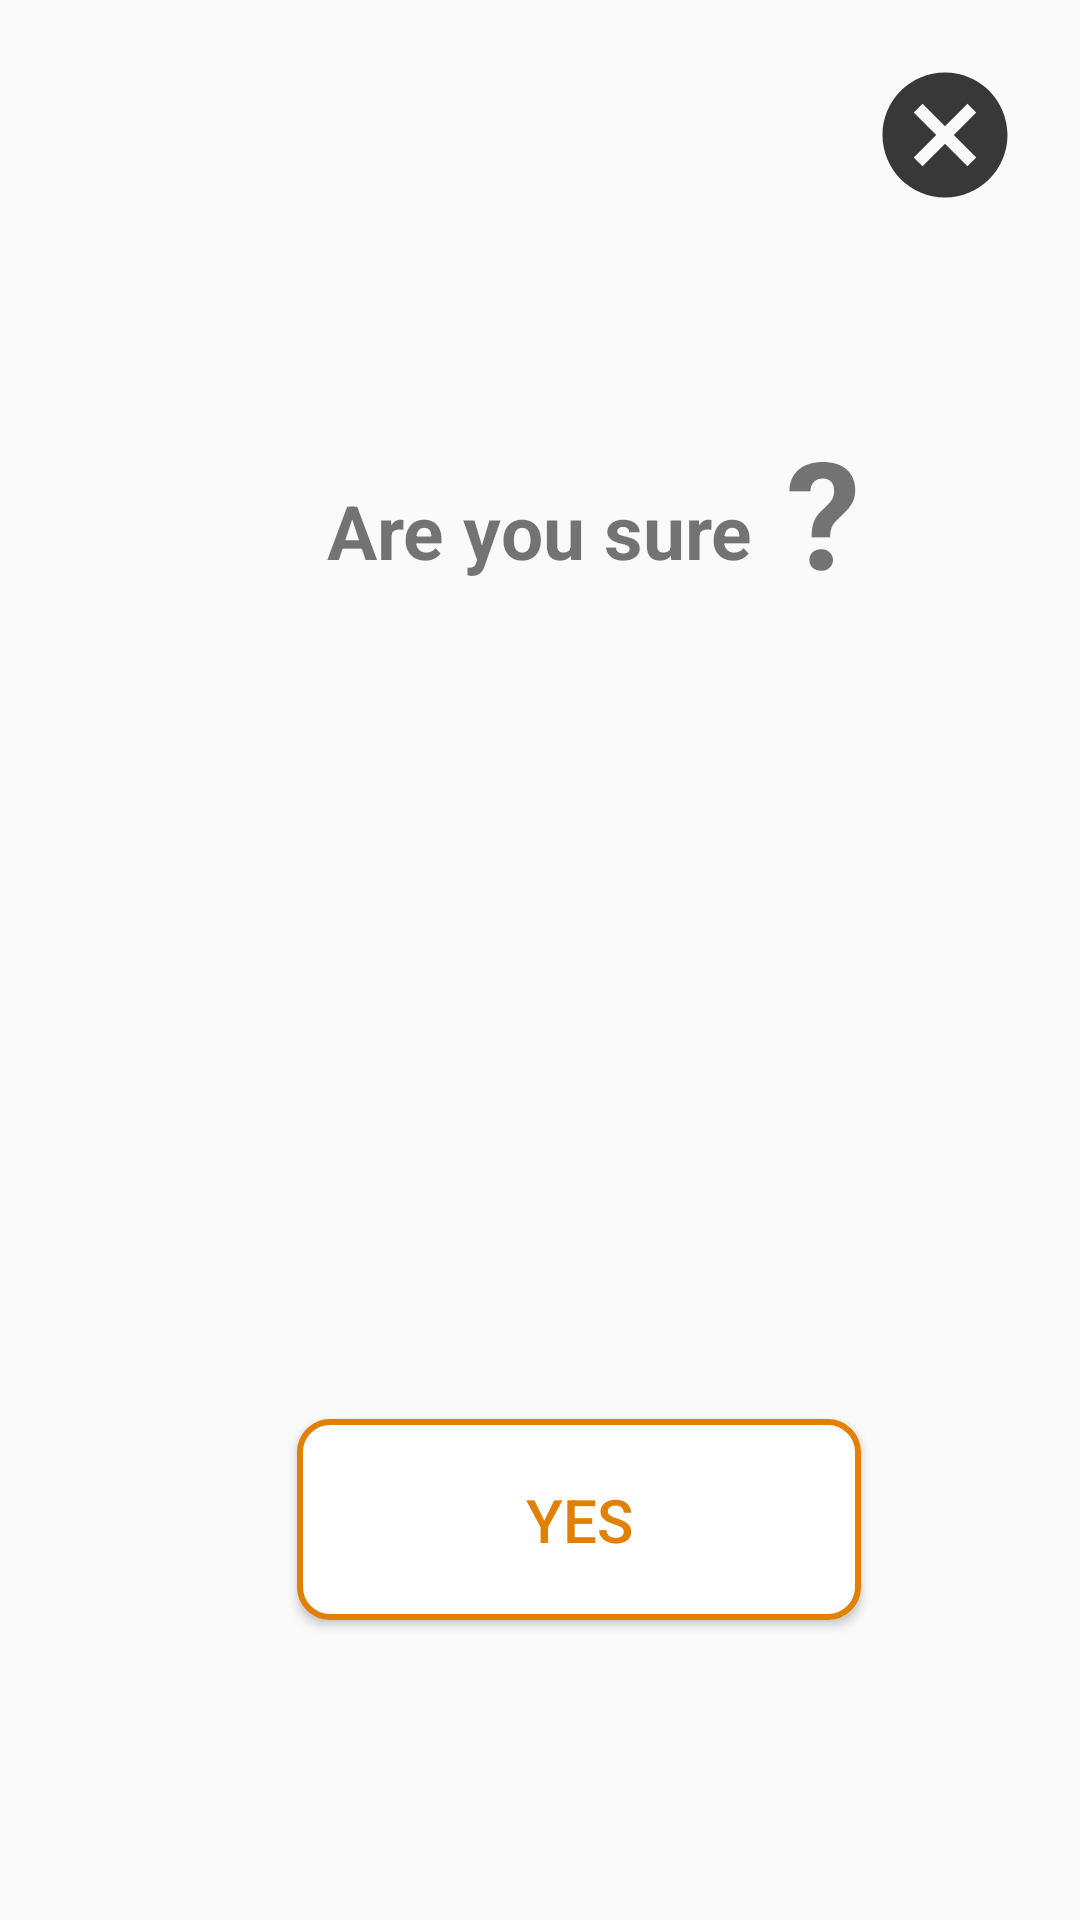

Where to tap for icons on this 1080*1920 app screen, as [x,y]:
cancel: [945,135]
